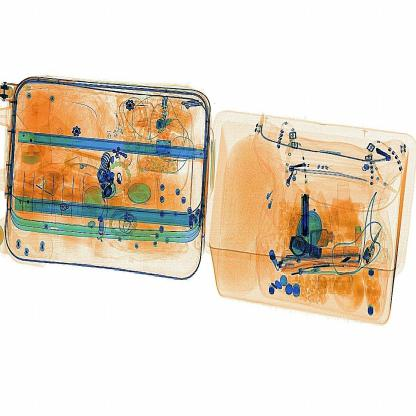scissors: (292, 183, 314, 252)
